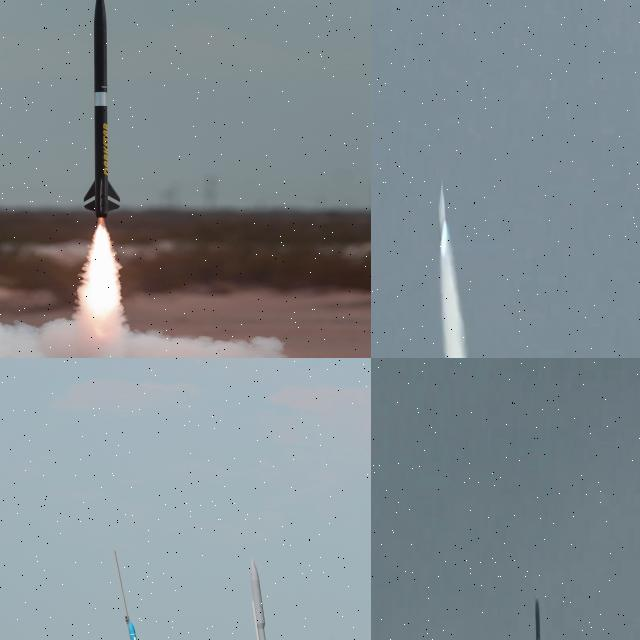Rocket: (82, 0, 122, 219), (250, 557, 266, 640), (436, 179, 453, 255), (529, 594, 549, 640)
